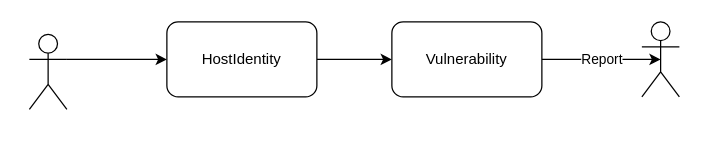
Image size: 705x158. Some labels were removed from this diagram. The shapes that lost their labels are listed below. From the top down, each one's centre as x and y in pixels, then its label:
At [47,71]: "SecEng".
At [660,59]: "Vendor".
